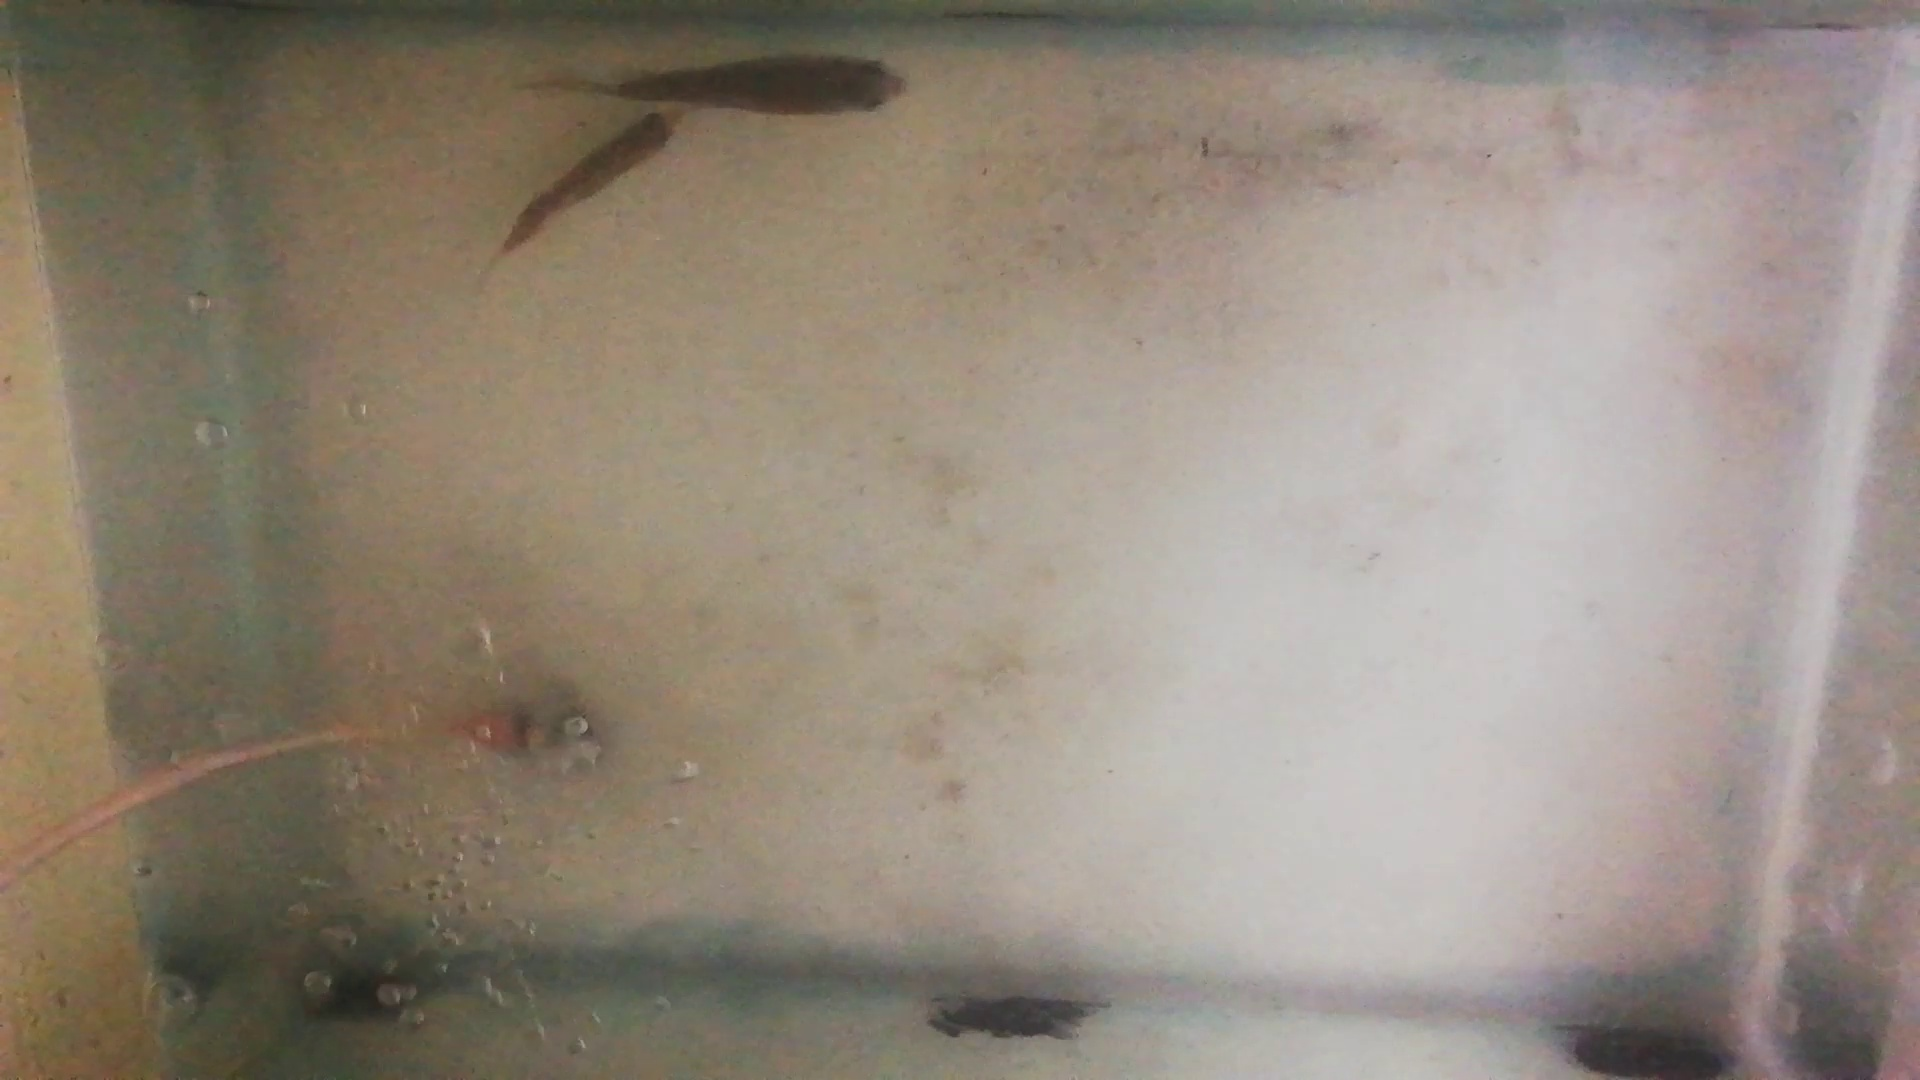fish: (502, 109, 680, 251), (617, 55, 909, 117)
